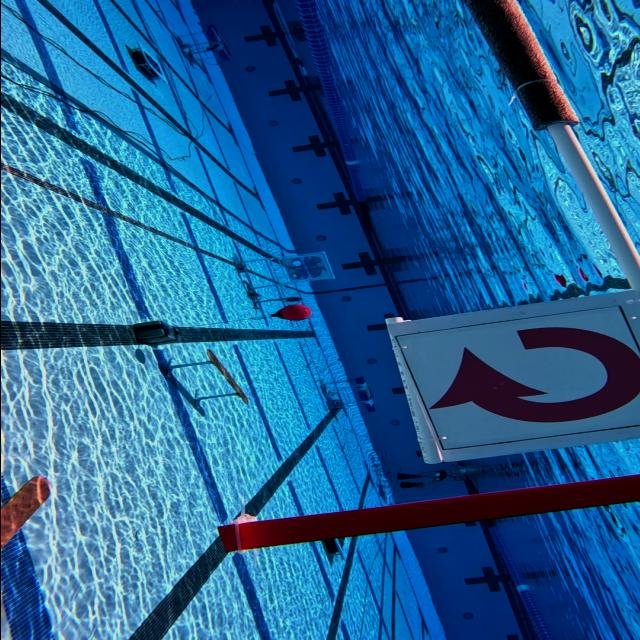red_side: (420, 297, 640, 462)
